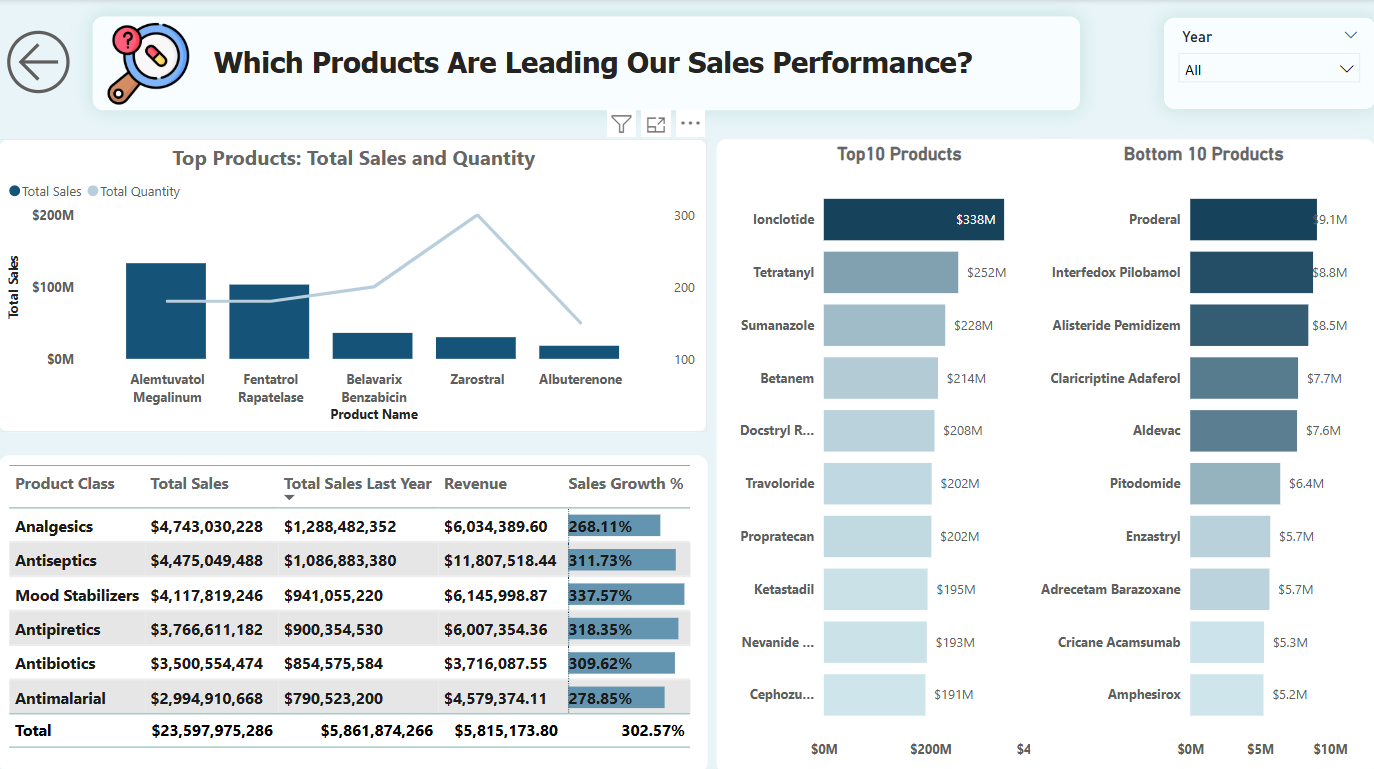

This screenshot's page, from the dashboard's own definition file:
{"tool":"powerbi","page":{"name":"Product Performance","canvas":[1280,720],"ordinal":1},"visuals":[{"type":"barChart","title":"Top10 Products","fields":{"Y":["_Measures.Total Sales"],"Category":["Dim_Product.Product Name"]},"box":[666.9,130.4,338.9,590.1],"z":0},{"type":"barChart","title":"Bottom 10 Products","fields":{"Y":["_Measures.Total Sales"],"Category":["Dim_Product.Product Name"]},"box":[959.2,130.4,321.1,590.1],"z":1000},{"type":"tableEx","fields":{"Values":["Dim_Product.Product Class","_Measures.Total Sales","_Measures.Total Sales Last Year","_Measures.Revenue per Unit","_Measures.Sales Growth %"]},"box":[0,424.9,659.4,295.3],"z":2000},{"type":"textbox","box":[87.2,16.3,918.6,87.2],"z":3000},{"type":"actionButton","box":[0,14,73.3,89.5],"z":4000},{"type":"lineStackedColumnComboChart","title":"Top Products: Total Sales and Quantity","fields":{"Category":["Dim_Product.Product Name"],"Y2":["_Measures.Total Quantity"],"Y":["_Measures.Total Sales"]},"box":[0,130.8,658.1,272.7],"z":5000},{"type":"slicer","fields":{"Values":["fSales.Year"]},"box":[1083.7,17.4,196.5,84.9],"z":6000},{"type":"image","box":[95.3,17.4,87.2,86],"z":7000}]}

Visuals, with their boxes in screenshot pixels (x1, y1, x2, y2), scaled from the page's 1280x720 canvas onto the 1374x769 screenshot:
"Top10 Products" barChart: BBox(716, 139, 1080, 768)
"Bottom 10 Products" barChart: BBox(1030, 139, 1373, 768)
tableEx - Dim_Product.Product Class x _Measures.Total Sales: BBox(0, 454, 708, 768)
textbox: BBox(94, 17, 1080, 111)
actionButton: BBox(0, 15, 79, 111)
"Top Products: Total Sales and Quantity" lineStackedColumnComboChart: BBox(0, 140, 706, 431)
slicer - fSales.Year: BBox(1163, 19, 1373, 109)
image: BBox(102, 19, 196, 110)
